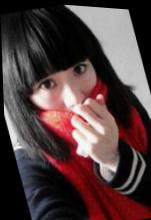WRONG: (12, 36, 121, 162)
